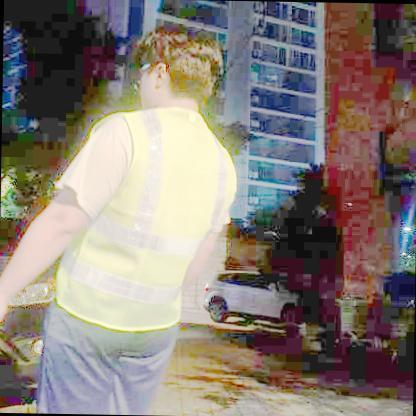no-helmet: (134, 22, 225, 85)
vest: (53, 103, 239, 335)
